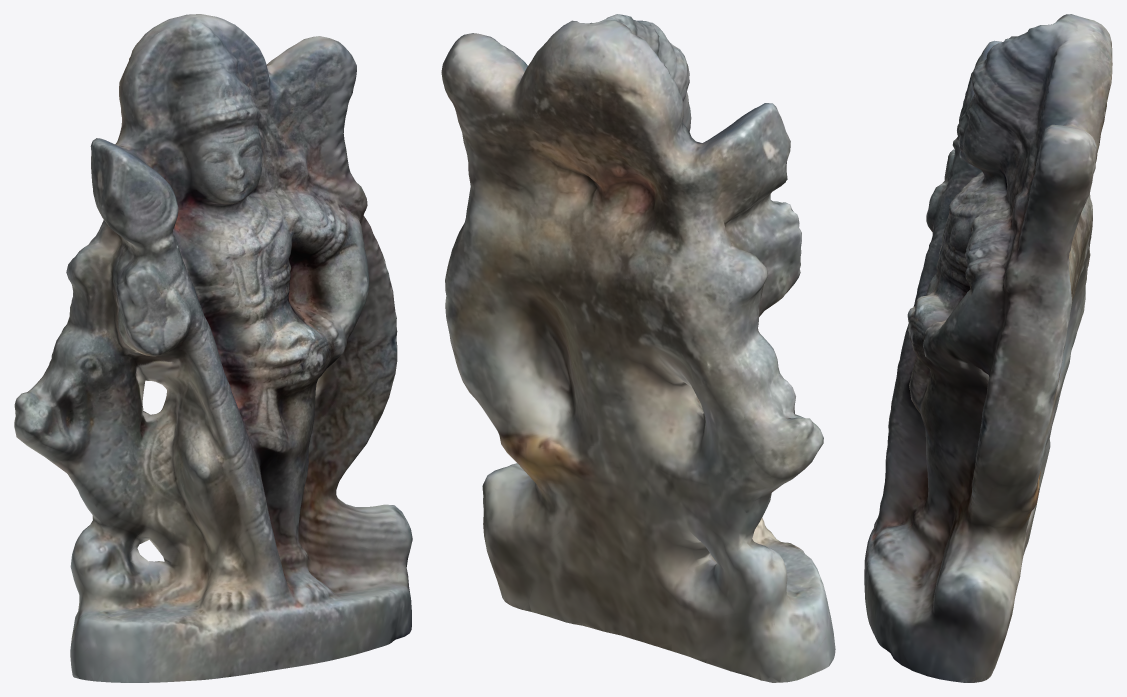
Rendered from Karthikeya_Swami.glb.
3 renders of one model, left to right at view 1: azimuth 30°, elevation 25°; view 2: azimuth 150°, elevation 25°; view 3: azimuth 270°, elevation 25°, orthographic. The views are drawn at different scales.
Visible parts, largest first — view 1: 3DModel; view 2: 3DModel; view 3: 3DModel.
Boxes of the visible parts, box(x1,y1,x2,y2) form: 3DModel: box(14, 14, 412, 682); 3DModel: box(441, 14, 835, 682); 3DModel: box(864, 14, 1112, 682).
Bounding box in the file's own units: 0.7727 × 1.26 × 0.4759.
1 material, 1 textured.
